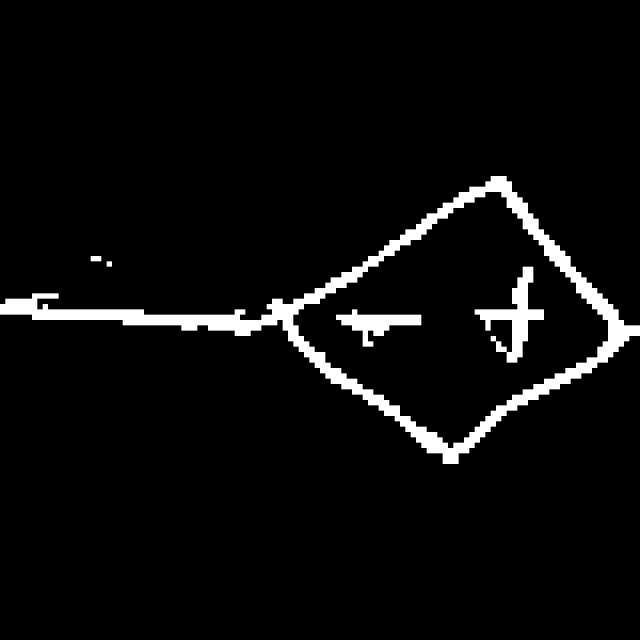dependant_voltage: (261, 170, 640, 458)
